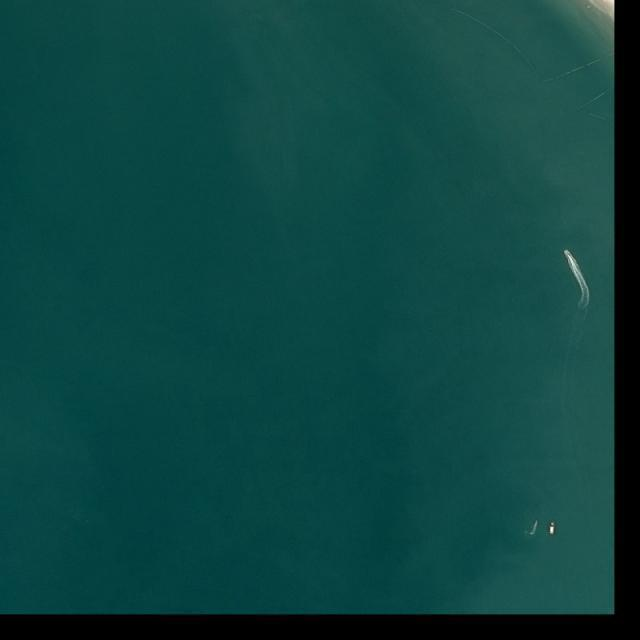ship: (550, 522, 555, 538), (562, 248, 570, 256)
